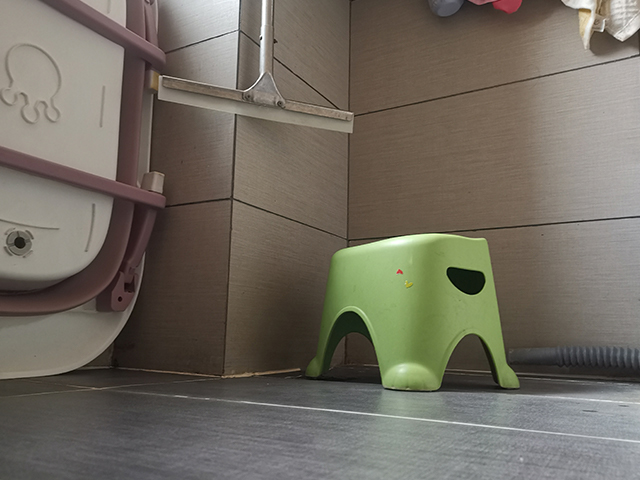stool: (302, 231, 522, 394)
